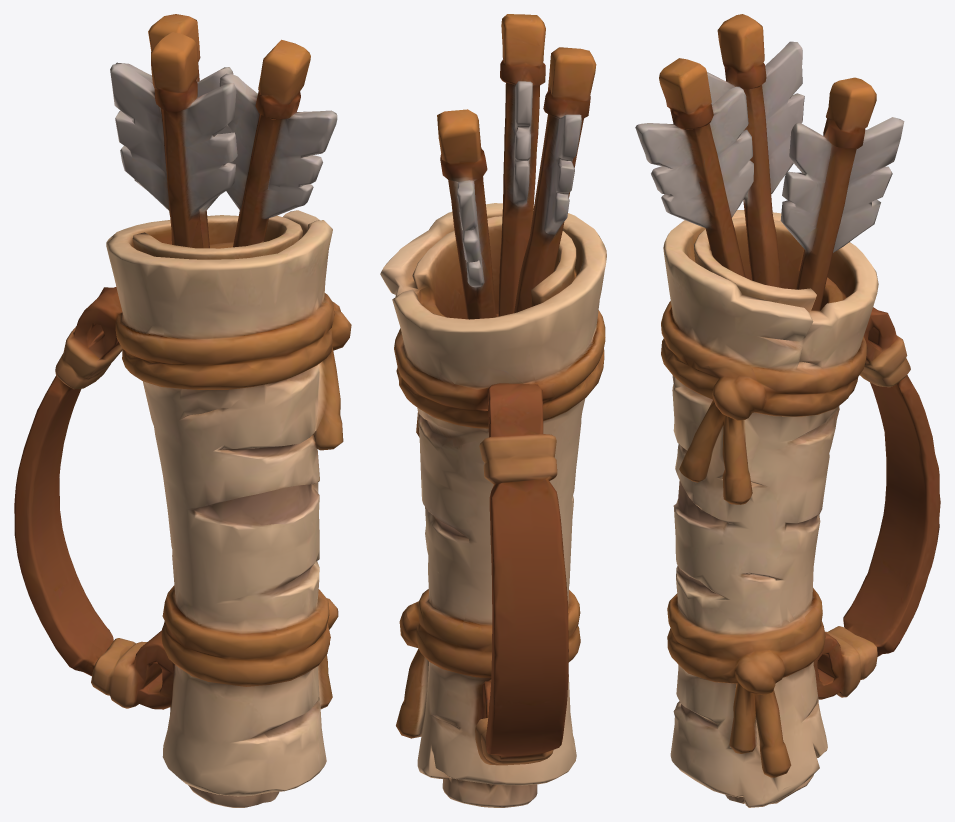
The model's file is Arm_birch_quiver-CgFpJgRd.glb.
3 renders of one model, left to right at view 1: azimuth 30°, elevation 25°; view 2: azimuth 150°, elevation 25°; view 3: azimuth 270°, elevation 25°, orthographic. The views are drawn at different scales.
Parts seen in each view (by area): view 1: Arm_birch_quiver; view 2: Arm_birch_quiver; view 3: Arm_birch_quiver.
Boxes of the visible parts, x1,y1,x2,y2 form: Arm_birch_quiver: (14,14,351,807); Arm_birch_quiver: (380,14,606,807); Arm_birch_quiver: (635,14,940,807).
Bounding box in the file's own units: 0.2479 × 0.75 × 0.2812.
1 material, 1 textured.
